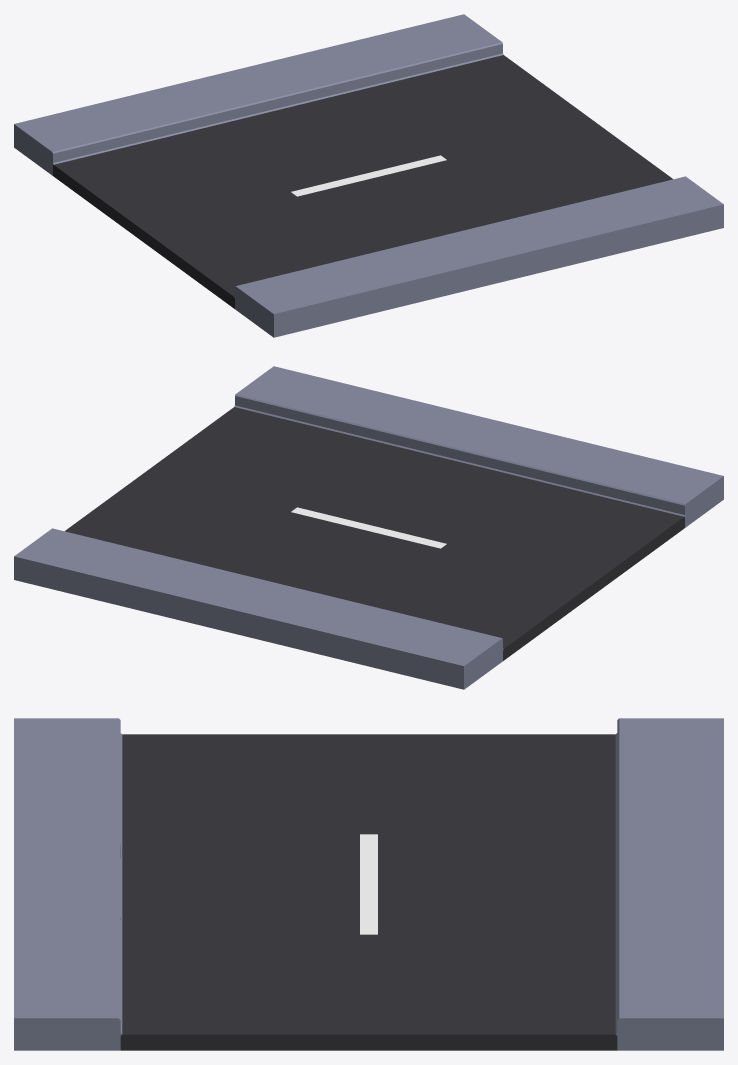
Rendered from road_gerade.fbx.
3 renders of one model, top to bottom at view 1: azimuth 30°, elevation 25°; view 2: azimuth 150°, elevation 25°; view 3: azimuth 270°, elevation 25°, orthographic. The views are drawn at different scales.
Visible parts, largest first — view 1: road-gerade-4x4; view 2: road-gerade-4x4; view 3: road-gerade-4x4.
Part boxes in pixels (x1,y1,x2,y2): road-gerade-4x4: [14, 14, 723, 337]; road-gerade-4x4: [14, 366, 723, 689]; road-gerade-4x4: [14, 718, 723, 1050].
Bounding box in the file's own units: 400 × 400 × 20.
